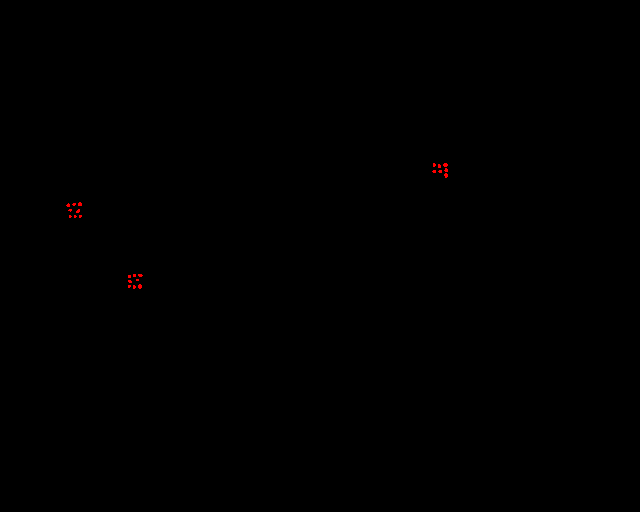Target: (443, 163, 448, 167), (444, 173, 448, 178), (138, 284, 142, 289), (444, 168, 448, 172), (78, 202, 82, 206), (66, 203, 70, 207), (76, 209, 80, 213), (138, 274, 143, 277), (433, 163, 436, 167), (438, 164, 441, 168), (432, 170, 436, 173), (438, 170, 442, 173), (72, 203, 76, 206), (68, 209, 72, 212), (128, 280, 132, 283), (133, 285, 136, 289), (69, 215, 72, 218), (74, 215, 77, 218), (79, 215, 82, 218), (133, 274, 136, 277), (128, 275, 131, 278), (128, 285, 131, 288), (136, 279, 139, 281)
